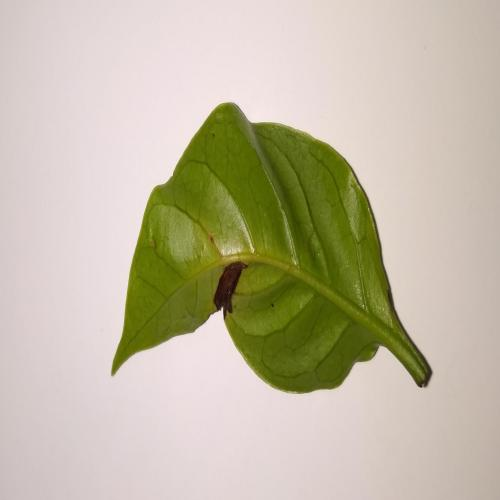miner: (214, 262, 246, 316)
